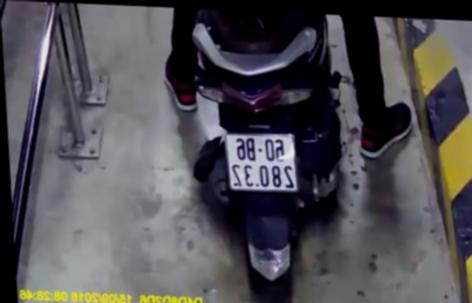License_Plate: (214, 128, 306, 199)
